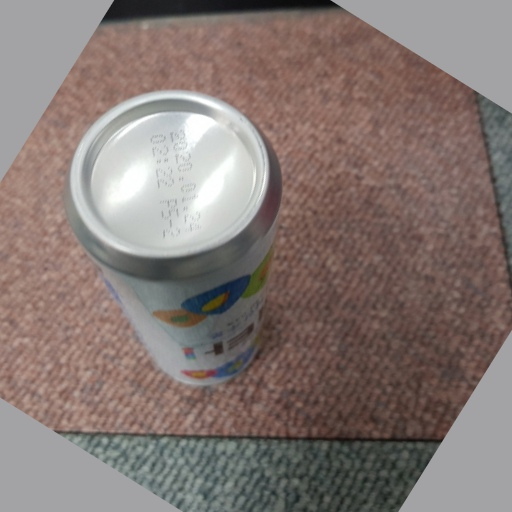Metal_0: (62, 88, 283, 392)
